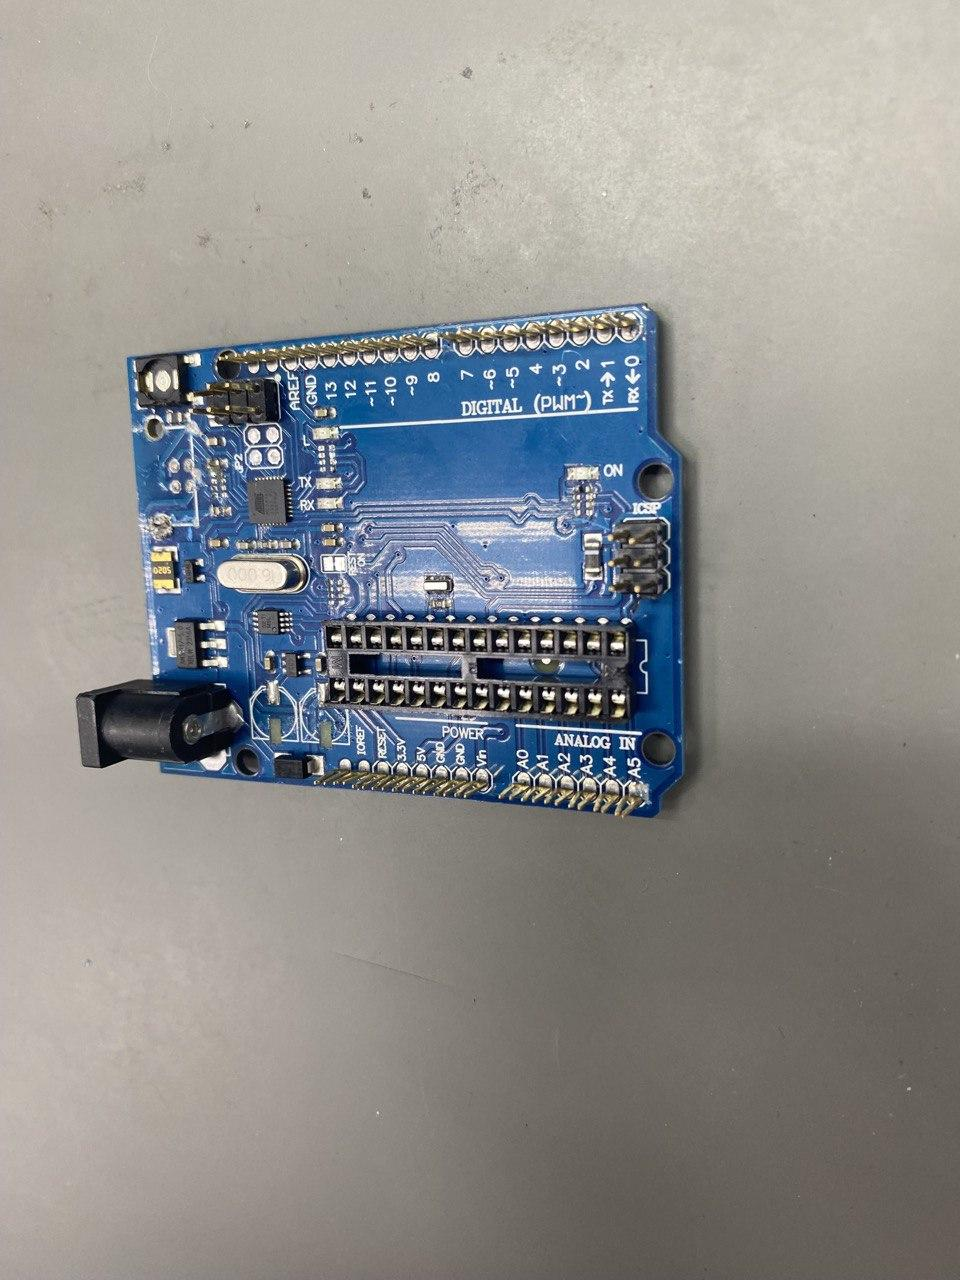Arduino board: (77, 304, 685, 821)
